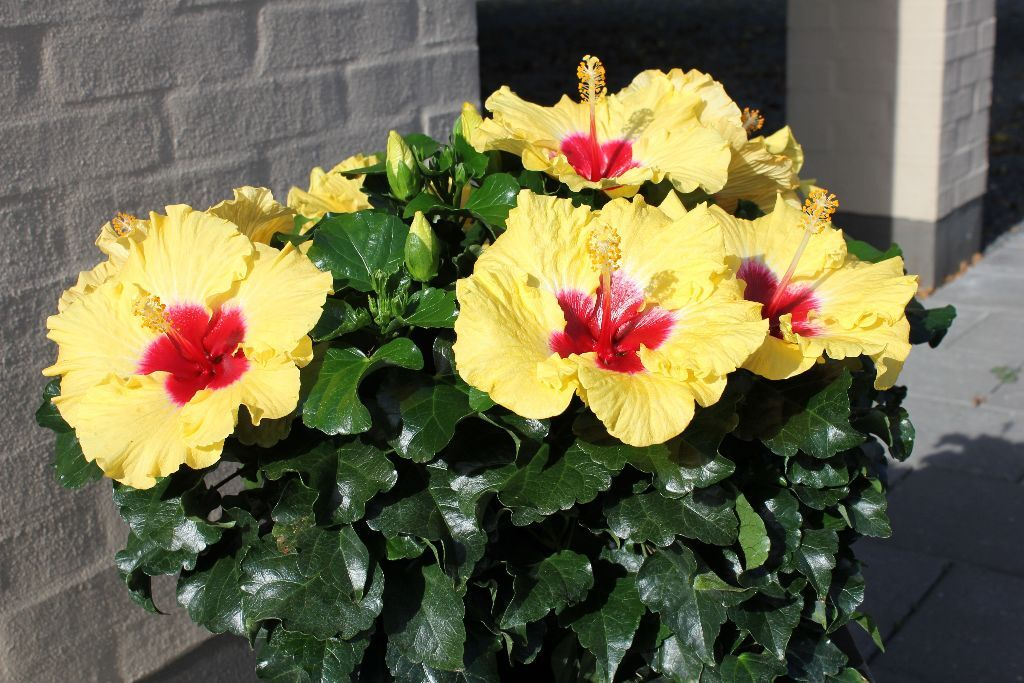Hibiscus-rosa-sinesis: (46, 204, 332, 488), (454, 193, 764, 449), (460, 57, 747, 193), (714, 204, 914, 386)
